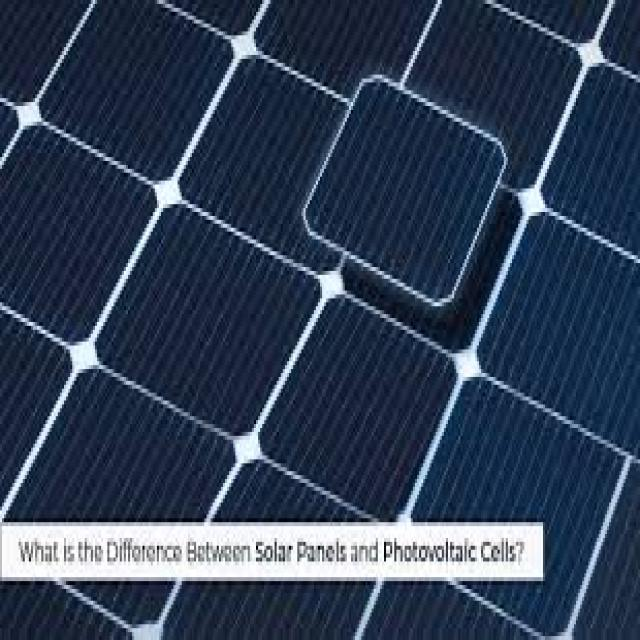clean-solar-panel: (0, 2, 640, 637)
